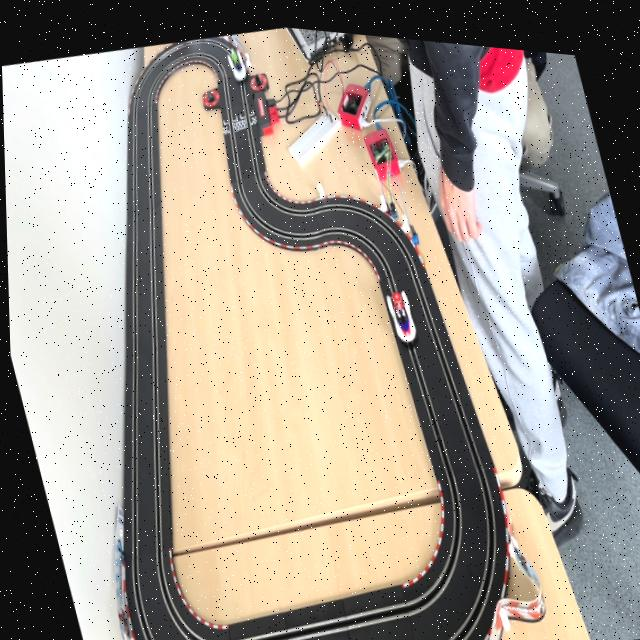mario: (382, 277, 419, 342)
yoshi: (223, 40, 248, 79)
